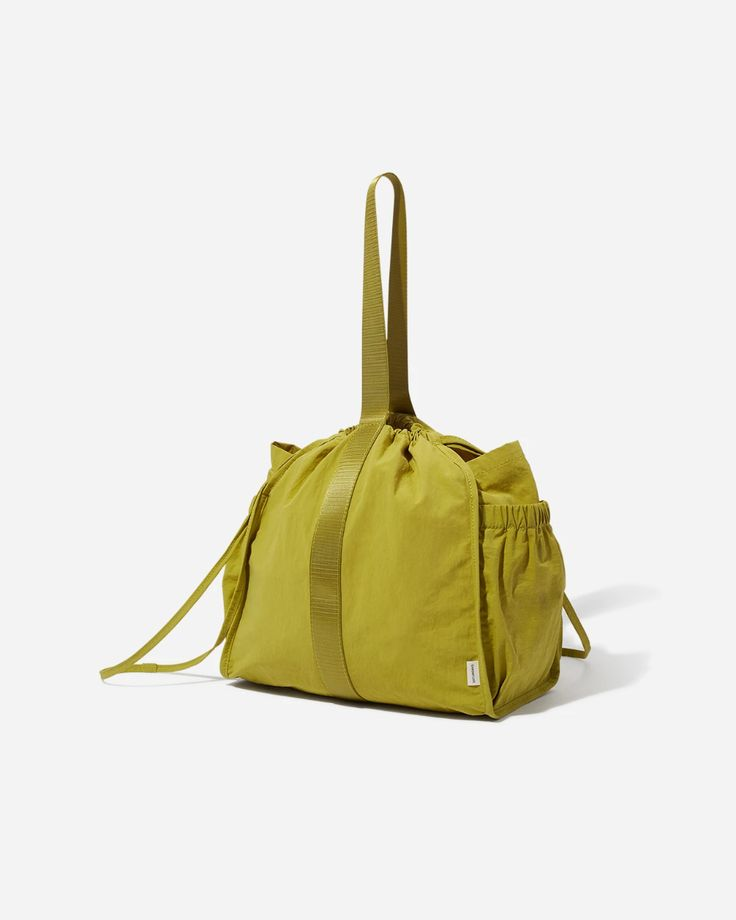nylon: (102, 170, 591, 723)
